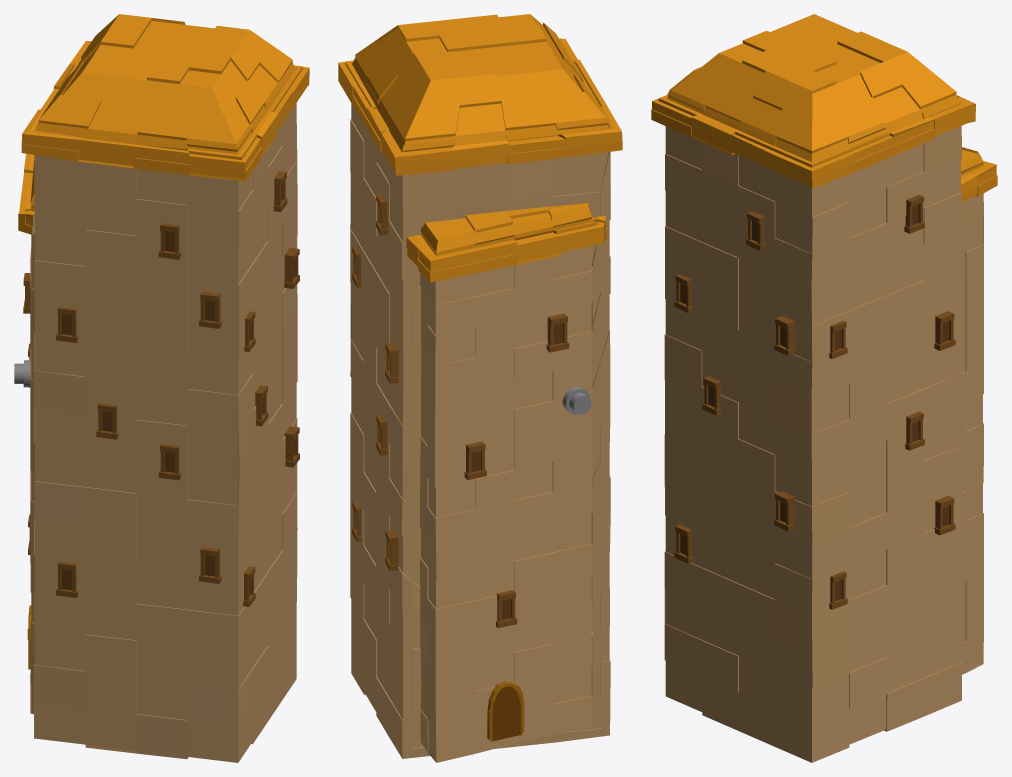
File: Apartment_Building_7.fbx
3 renders of one model, left to right at view 1: azimuth 30°, elevation 25°; view 2: azimuth 150°, elevation 25°; view 3: azimuth 270°, elevation 25°, orthographic.
Parts seen in each view (by area): view 1: Cube.538, Cube.577, Cube.573, Cube.572, Cube.576, Cube.575, Cube.574, Cube.578, Cube.564, Cube.568; view 2: Cube.538, Cube.562, Cube.587, Cube.588, Cube.589, Cylinder.880, Cube.580, Cube.584; view 3: Cube.538, Cube.564, Cube.568, Cube.580, Cube.584, Cube.566, Cube.585, Cube.569, Cube.581, Cube.567, Cube.563.
Boxes of the visible parts, left/top/right/bottom form: Cube.538: left=18, top=14, right=309, bottom=762; Cube.577: left=199, top=291, right=221, bottom=328; Cube.573: left=199, top=547, right=221, bottom=583; Cube.572: left=158, top=223, right=180, bottom=259; Cube.576: left=158, top=443, right=180, bottom=480; Cube.575: left=96, top=403, right=118, bottom=439; Cube.574: left=56, top=562, right=77, bottom=597; Cube.578: left=56, top=307, right=77, bottom=342; Cube.564: left=284, top=247, right=299, bottom=288; Cube.568: left=284, top=426, right=299, bottom=467; Cube.538: left=338, top=14, right=622, bottom=762; Cube.562: left=487, top=681, right=524, bottom=741; Cube.587: left=546, top=313, right=569, bottom=352; Cube.588: left=464, top=441, right=486, bottom=479; Cube.589: left=496, top=590, right=517, bottom=627; Cylinder.880: left=562, top=386, right=591, bottom=414; Cube.580: left=385, top=342, right=398, bottom=383; Cube.584: left=385, top=530, right=398, bottom=570; Cube.538: left=651, top=14, right=997, bottom=762; Cube.564: left=774, top=316, right=795, bottom=356; Cube.568: left=774, top=491, right=795, bottom=531; Cube.580: left=934, top=311, right=955, bottom=350; Cube.584: left=934, top=495, right=955, bottom=535; Cube.566: left=702, top=376, right=721, bottom=415; Cube.585: left=904, top=194, right=924, bottom=233; Cube.569: left=746, top=211, right=766, bottom=250; Cube.581: left=905, top=411, right=924, bottom=450; Cube.567: left=674, top=524, right=693, bottom=563; Cube.563: left=674, top=274, right=692, bottom=312.
Bounding box in the file's own units: 1504 × 3316 × 1604.
